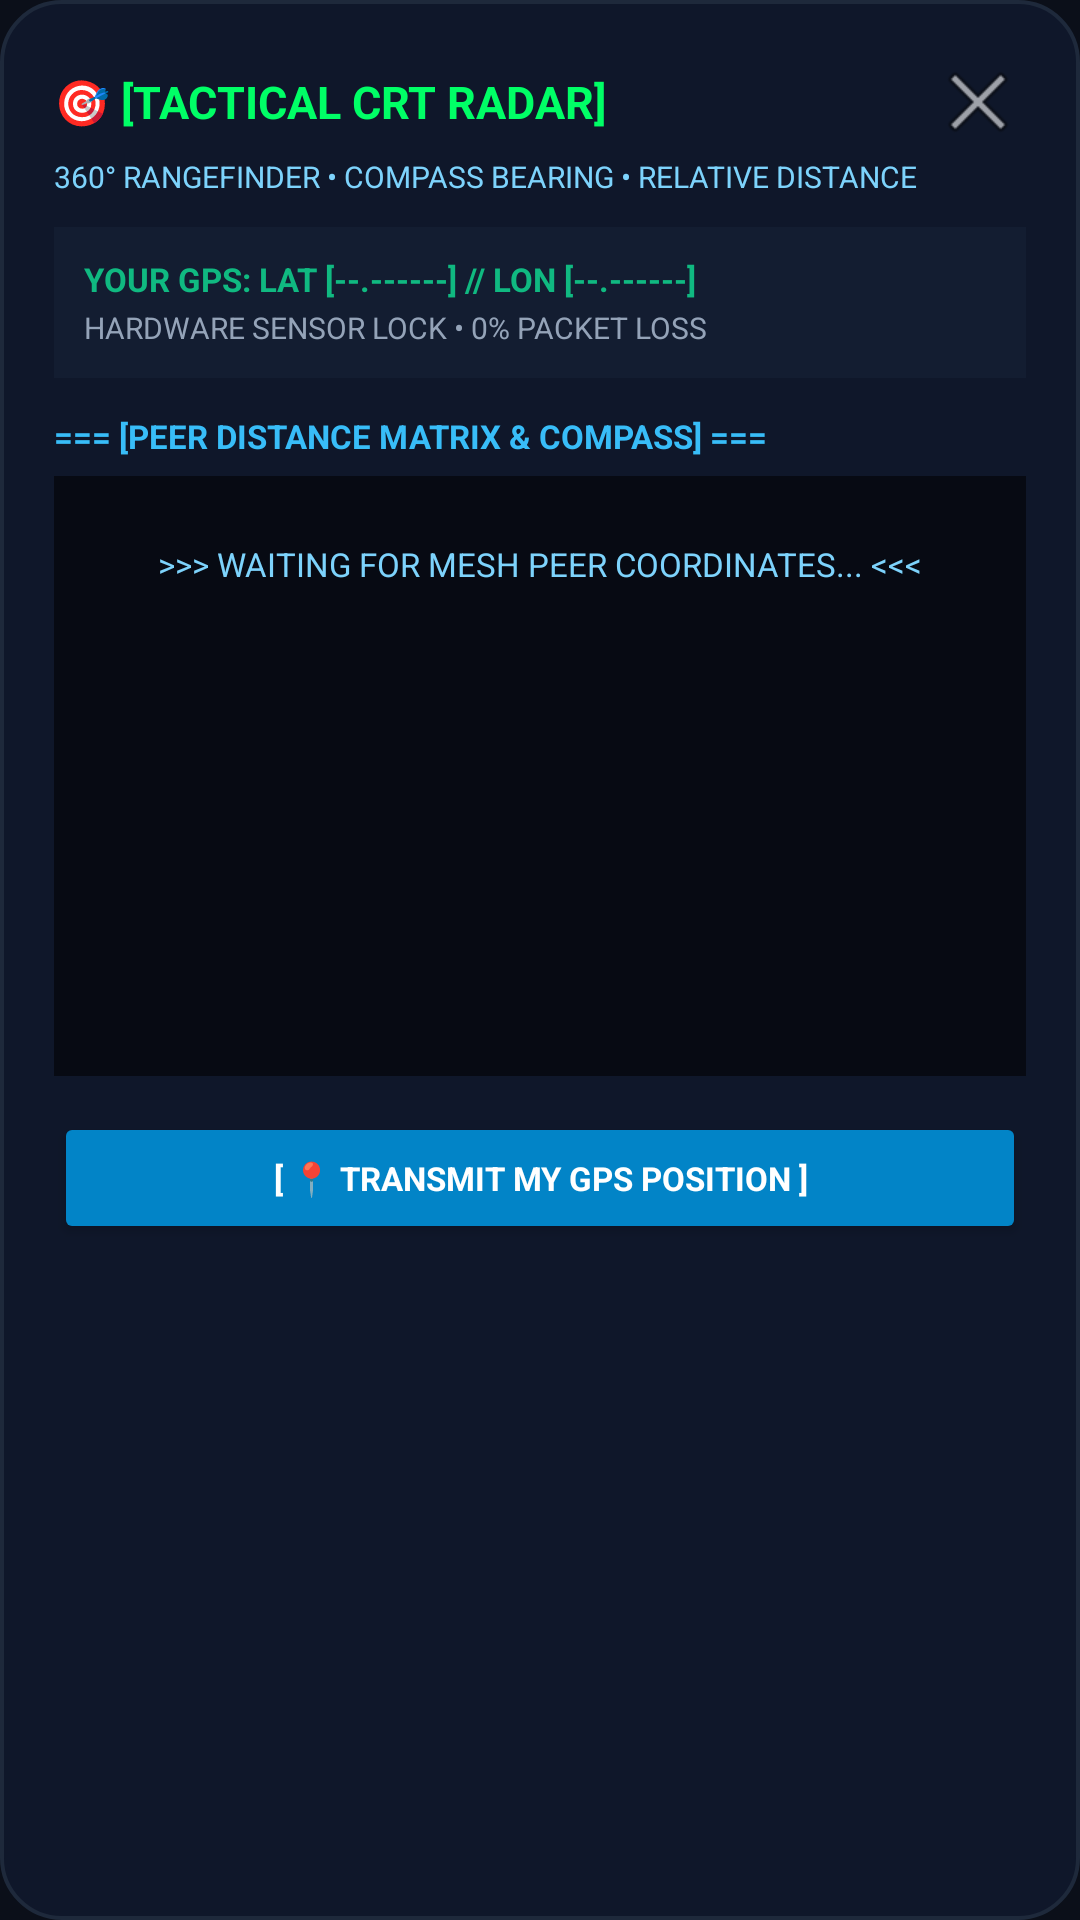

Where icons sit on this 1080×1920 app screen, as BBox(x1, y1, x2, y2):
Close: BBox(951, 75, 1005, 129)
